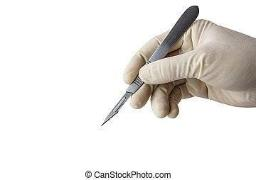scalpel: (100, 5, 200, 127)
